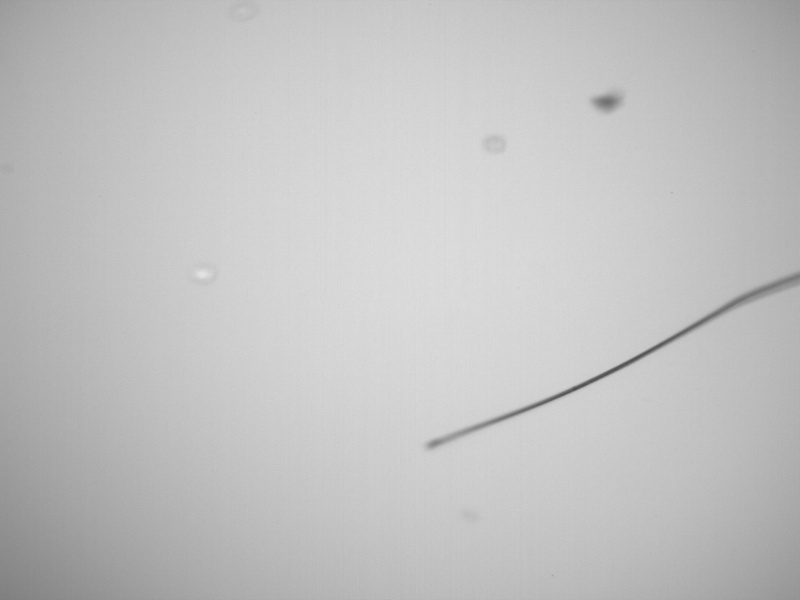bead: (589, 81, 629, 115)
fiber: (419, 268, 800, 450)
